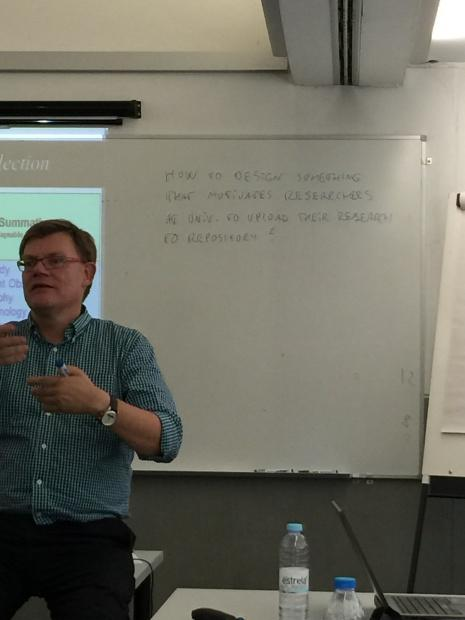Whiteboard: (0, 132, 427, 481)
